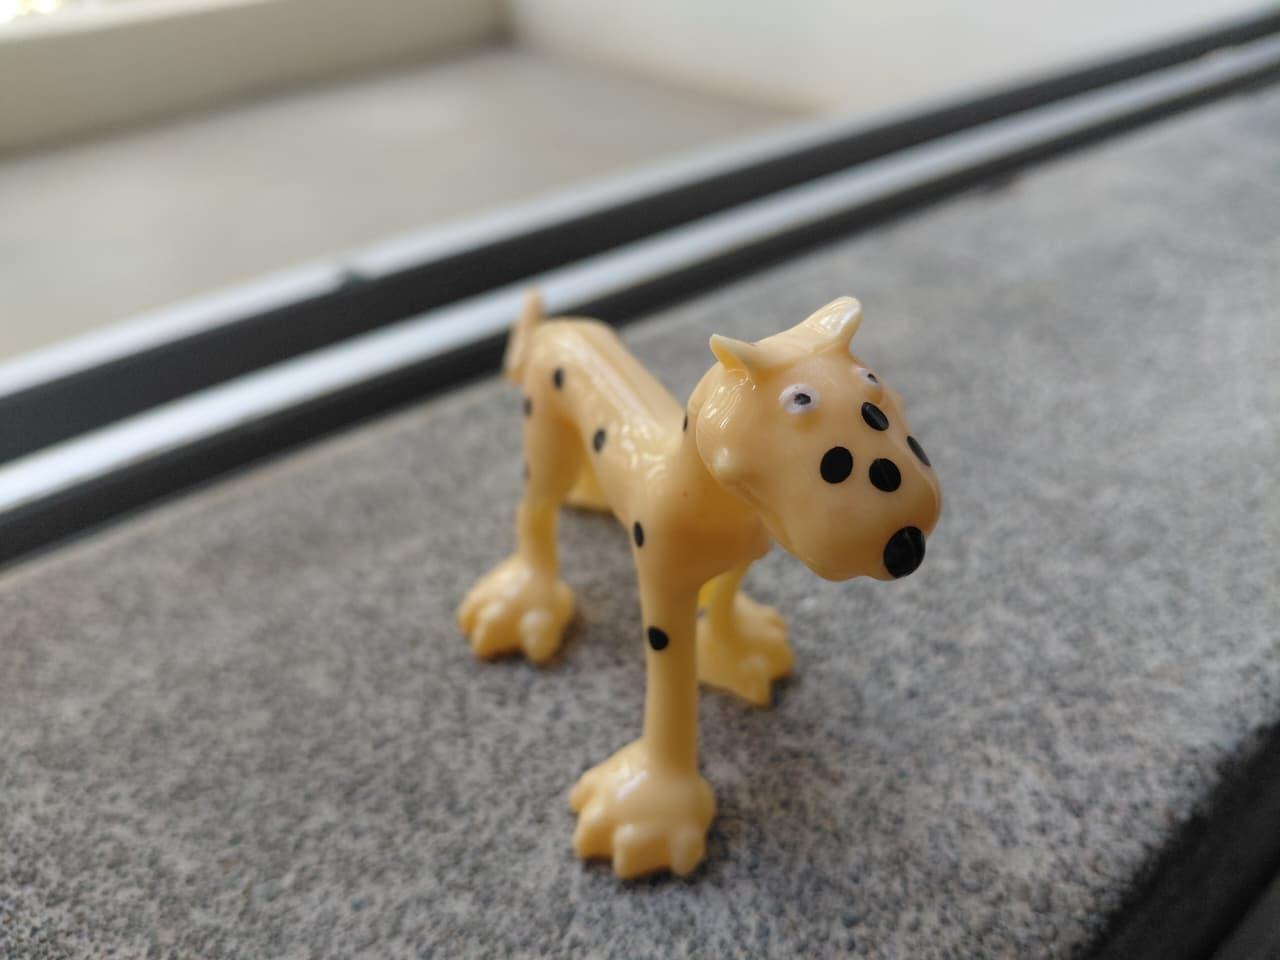cheetah: (430, 250, 1021, 890)
